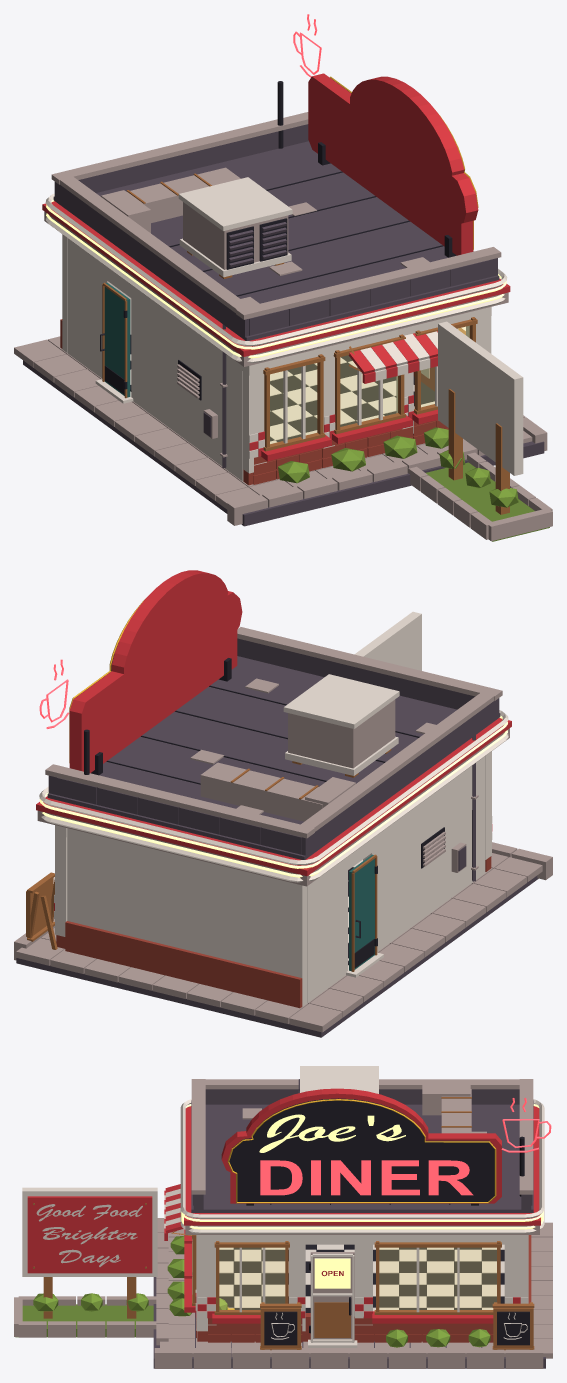
File: bld.joes-diner.lod1.glb
3 views of the same model, one above another, from view 1: azimuth 30°, elevation 25°; view 2: azimuth 150°, elevation 25°; view 3: azimuth 270°, elevation 25° (orthographic). The views are drawn at different scales.
Visible parts, largest first — view 1: roof, object 6, body, interior, door_service; view 2: roof, body, object 6, door_service; view 3: roof, object 6, body, interior, door_front.
Part boxes in pixels (bbox=[...]): roof: bbox=[42, 14, 510, 366]; object 6: bbox=[14, 317, 552, 541]; body: bbox=[62, 234, 523, 481]; interior: bbox=[130, 334, 434, 443]; door_service: bbox=[100, 282, 130, 398]; roof: bbox=[36, 570, 511, 886]; body: bbox=[54, 611, 492, 1006]; object 6: bbox=[14, 735, 552, 1037]; door_service: bbox=[349, 854, 377, 971]; roof: bbox=[180, 1066, 551, 1234]; object 6: bbox=[14, 1184, 552, 1368]; body: bbox=[22, 1187, 528, 1347]; interior: bbox=[219, 1244, 504, 1312]; door_front: bbox=[309, 1252, 354, 1342].
Bounding box in the file's own units: 6.97 × 6.32 × 11.75.
